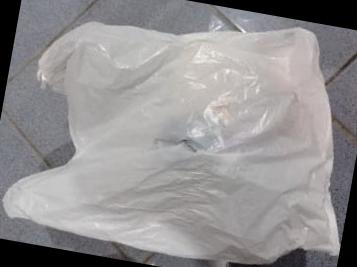Plastik: (3, 21, 338, 263)
